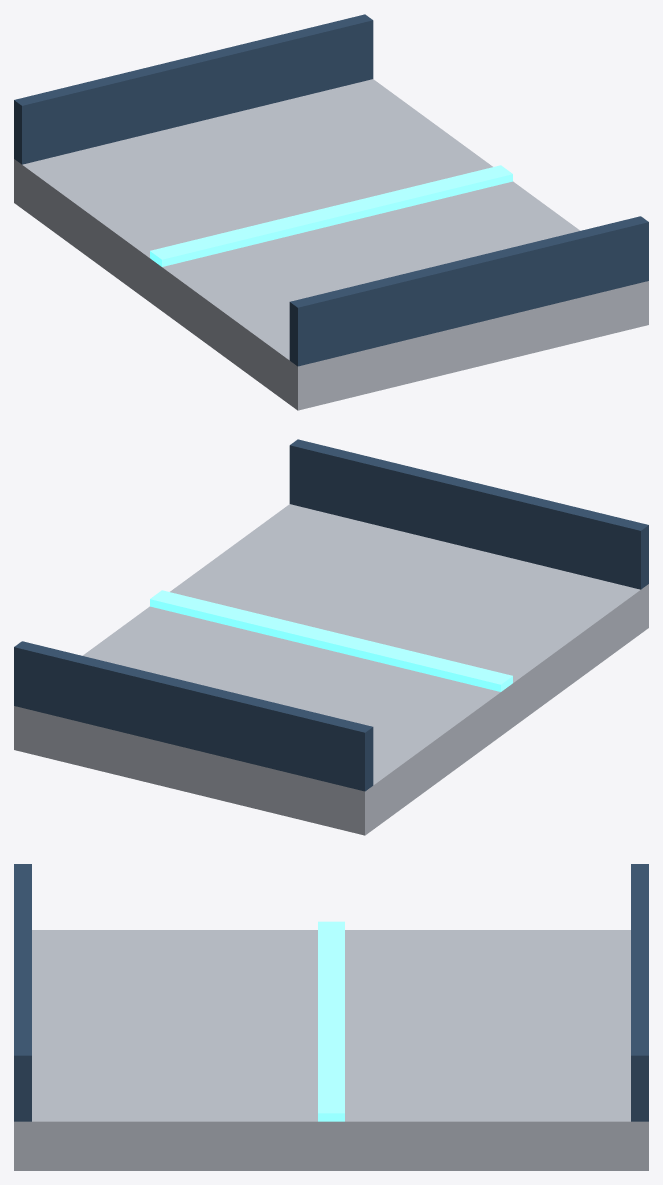
File: expressway_half.glb
The picture shows the model from 3 angles, top to bottom: view 1: azimuth 30°, elevation 25°; view 2: azimuth 150°, elevation 25°; view 3: azimuth 270°, elevation 25°; orthographic projection. The views are drawn at different scales.
Parts seen in each view (by area): view 1: Deck, BarrierL, BarrierR, Lane; view 2: Deck, BarrierR, BarrierL, Lane; view 3: Deck, Lane, BarrierL, BarrierR.
Boxes of the visible parts, x1,y1,x2,y2 form: Deck: (14, 79, 648, 410); BarrierL: (289, 216, 648, 366); BarrierR: (14, 14, 373, 164); Lane: (150, 165, 512, 266); Deck: (14, 504, 648, 835); BarrierR: (14, 641, 373, 791); BarrierL: (289, 439, 648, 589); Lane: (150, 590, 512, 691); Deck: (14, 930, 648, 1170); Lane: (318, 921, 344, 1121); BarrierL: (14, 864, 31, 1121); BarrierR: (631, 864, 648, 1121).
Size of the model in its own units: 0.5 by 0.14 by 0.7.
